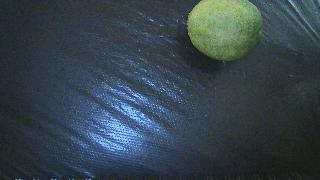DESECHO: (187, 0, 263, 61)
